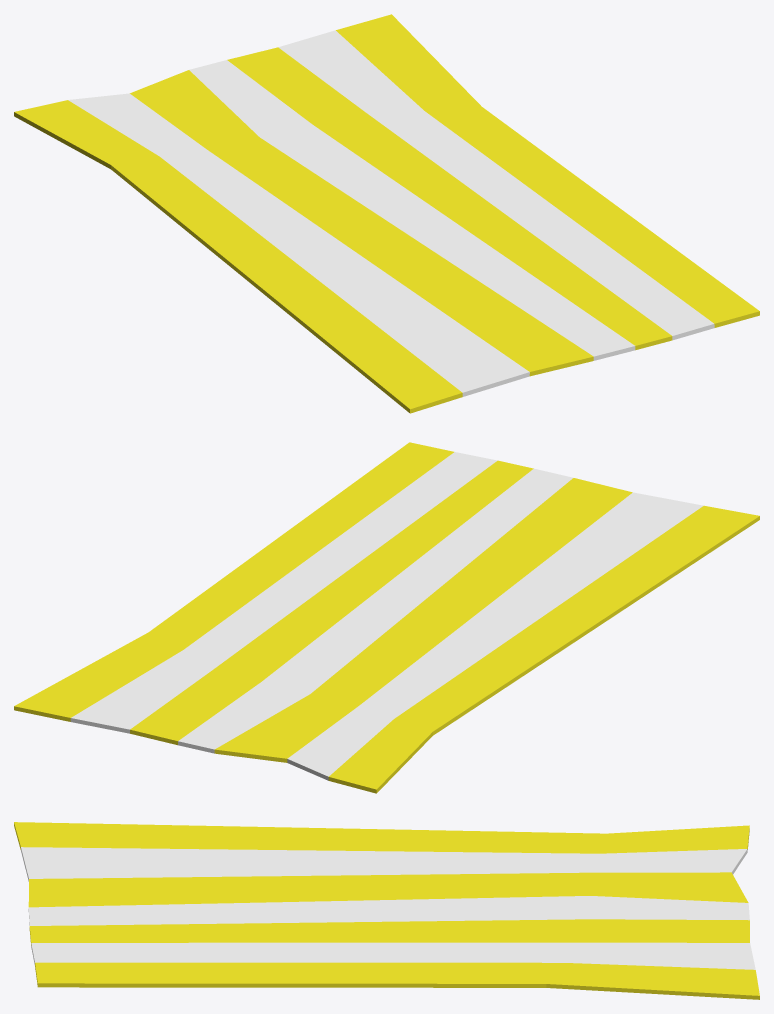
The model's file is Towel_02.fbx.
3 renders of one model, top to bottom at view 1: azimuth 30°, elevation 25°; view 2: azimuth 150°, elevation 25°; view 3: azimuth 270°, elevation 25°, orthographic. The views are drawn at different scales.
Parts seen in each view (by area): view 1: Towel_02; view 2: Towel_02; view 3: Towel_02.
Boxes of the visible parts, box(x1,y1,x2,y2) form: Towel_02: box(14, 14, 759, 413); Towel_02: box(14, 442, 759, 793); Towel_02: box(14, 822, 759, 999).
Size of the model in its own units: 114 by 1.22 by 208.
